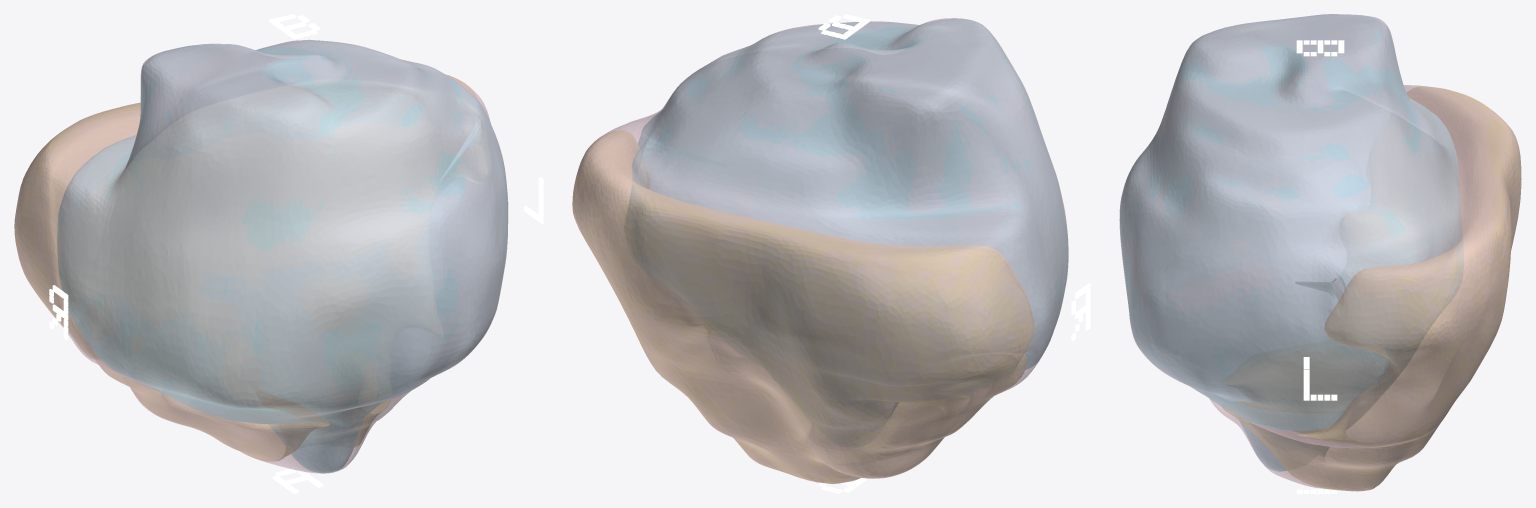
3 views of the same model, side by side, from view 1: azimuth 30°, elevation 25°; view 2: azimuth 150°, elevation 25°; view 3: azimuth 270°, elevation 25° (orthographic). The views are drawn at different scales.
Visible parts, largest first — view 1: prostate_gland, transition_zone, peripheral_zone, pv_ar_marker_B, pv_ar_marker_R; view 2: prostate_gland, peripheral_zone, transition_zone, pv_ar_marker_B, pv_ar_marker_R; view 3: prostate_gland, transition_zone, peripheral_zone, pv_ar_marker_B, pv_ar_marker_L.
Part boxes in pixels (<box>): prostate_gland: <box>14,39,508,473</box>; transition_zone: <box>57,40,507,472</box>; peripheral_zone: <box>14,75,477,461</box>; pv_ar_marker_B: <box>269,14,320,39</box>; pv_ar_marker_R: <box>49,285,68,339</box>; prostate_gland: <box>572,18,1068,483</box>; peripheral_zone: <box>572,130,1033,483</box>; transition_zone: <box>628,19,1067,417</box>; pv_ar_marker_B: <box>818,14,869,39</box>; pv_ar_marker_R: <box>1071,283,1090,340</box>; prostate_gland: <box>1119,14,1521,491</box>; transition_zone: <box>1120,14,1463,471</box>; peripheral_zone: <box>1222,86,1521,491</box>; pv_ar_marker_B: <box>1296,40,1344,56</box>; pv_ar_marker_L: <box>1303,357,1337,400</box>.
Size of the model in its own units: 0.0691 by 0.0631 by 0.0524.
